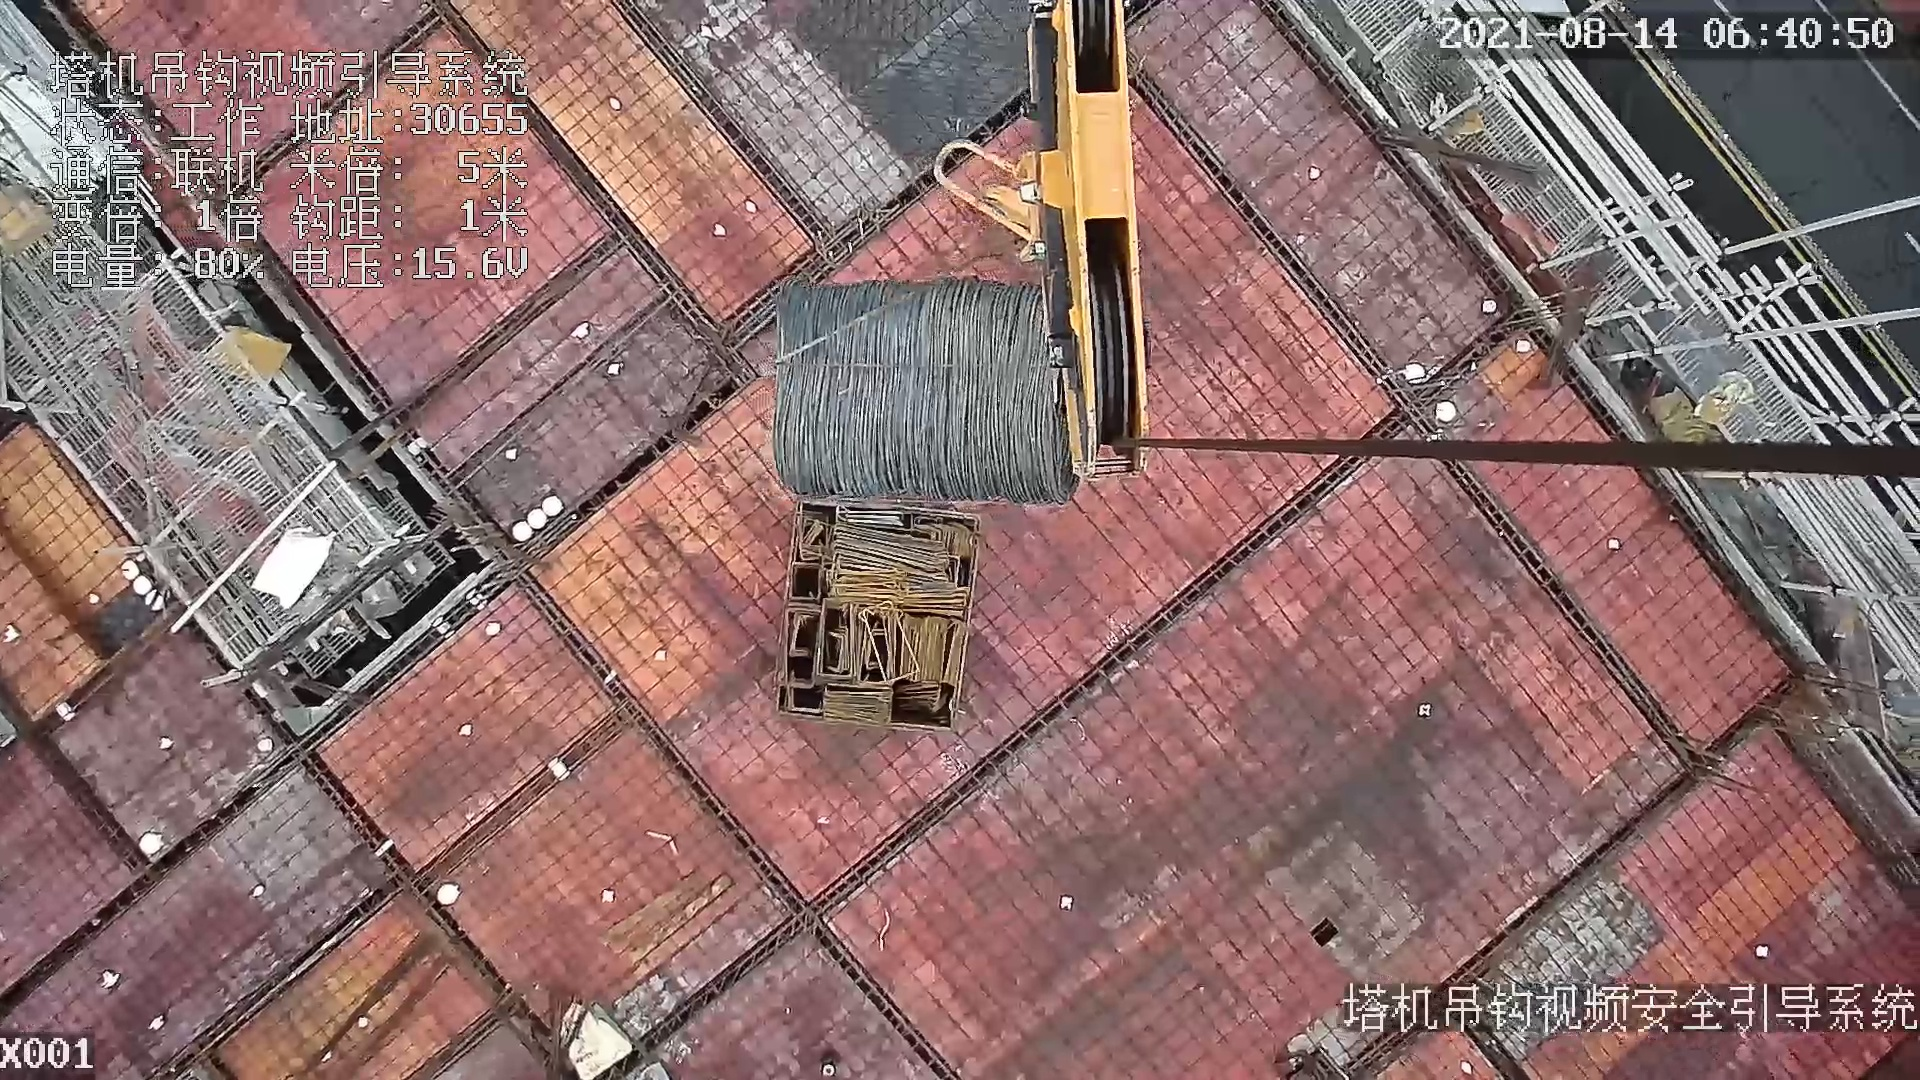hook: (932, 1, 1153, 476)
